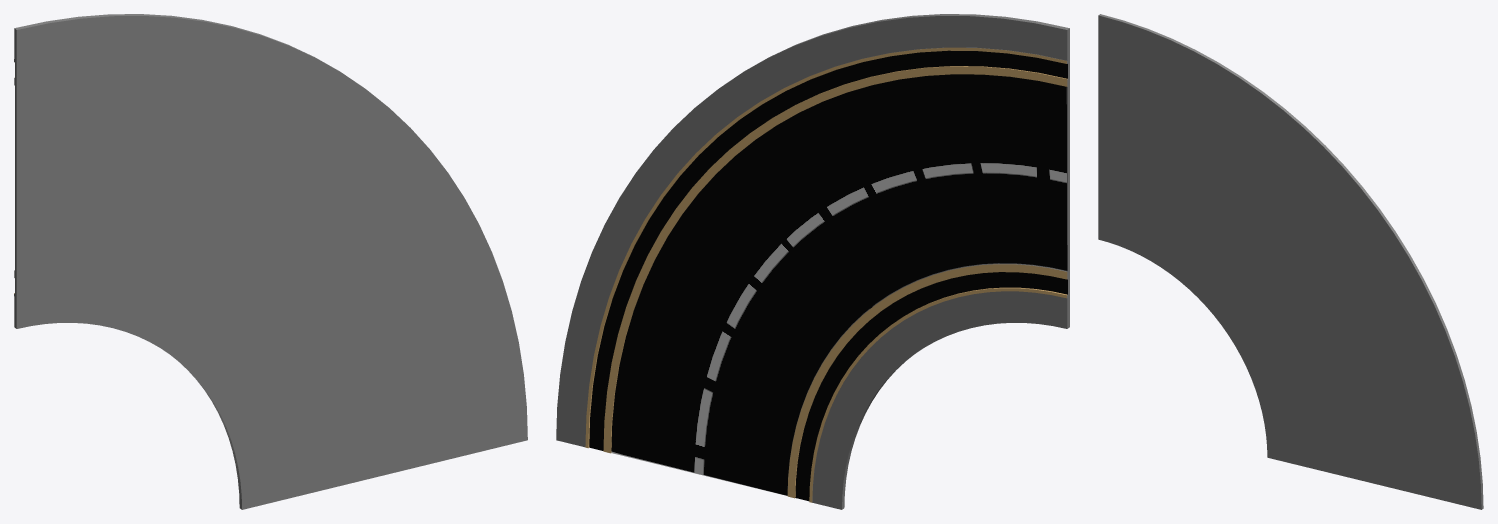
3 renders of one model, left to right at view 1: azimuth 30°, elevation 25°; view 2: azimuth 150°, elevation 25°; view 3: azimuth 330°, elevation 25°, orthographic. The views are drawn at different scales.
Visible parts, largest first — view 1: Road_Curve; view 2: Road_Curve; view 3: Road_Curve.
Boxes of the visible parts, <box> form: Road_Curve: <box>14,14,527,509</box>; Road_Curve: <box>556,14,1069,509</box>; Road_Curve: <box>1098,14,1483,509</box>.
Bounding box in the file's own units: 1735 × 1735 × 16.
4 materials, 1 textured.
